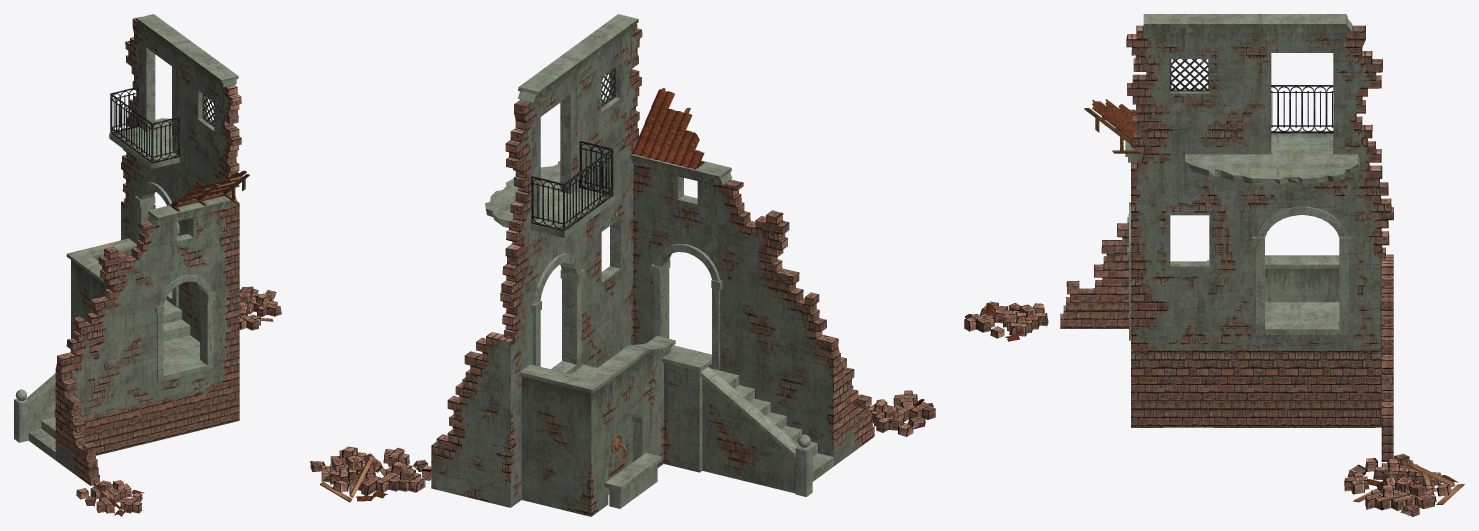
File: ruins-building.fbx
3 views of the same model, side by side, from view 1: azimuth 30°, elevation 25°; view 2: azimuth 150°, elevation 25°; view 3: azimuth 270°, elevation 25° (orthographic). The views are drawn at different scales.
Parts seen in each view (by area): view 1: Object_Ruins_Main_02.jpg, Object_Ruins_Main_01.jpg, Object_Ruins_Steps.jpg, Object_Balcony_Rail.jpg, Object_Rubble_02.jpg, Object_Rubble_01.jpg, Object_Roof_Tiles.jpg; view 2: Object_Ruins_Main_01.jpg, Object_Ruins_Steps.jpg, Object_Ruins_Main_02.jpg, Object_Rubble_01.jpg, Object_Balcony_Rail.jpg, Object_Roof_Tiles.jpg, Object_Rubble_02.jpg; view 3: Object_Ruins_Main_01.jpg, Object_Ruins_Steps.jpg, Object_Ruins_Main_02.jpg, Object_Rubble_01.jpg, Object_Balcony_Rail.jpg, Object_Rubble_02.jpg, Object_Roof_Tiles.jpg.
Boxes of the visible parts, x1,y1,x2,y2 form: Object_Ruins_Main_02.jpg: [55, 192, 233, 485]; Object_Ruins_Main_01.jpg: [109, 14, 241, 422]; Object_Ruins_Steps.jpg: [14, 238, 199, 459]; Object_Balcony_Rail.jpg: [110, 86, 214, 163]; Object_Rubble_02.jpg: [76, 480, 144, 516]; Object_Rubble_01.jpg: [239, 286, 281, 330]; Object_Roof_Tiles.jpg: [170, 170, 249, 211]; Object_Ruins_Main_01.jpg: [431, 14, 642, 507]; Object_Ruins_Steps.jpg: [519, 336, 833, 516]; Object_Ruins_Main_02.jpg: [631, 154, 874, 466]; Object_Rubble_01.jpg: [310, 446, 431, 502]; Object_Balcony_Rail.jpg: [531, 68, 615, 231]; Object_Roof_Tiles.jpg: [632, 88, 704, 169]; Object_Rubble_02.jpg: [870, 390, 935, 436]; Object_Ruins_Main_01.jpg: [1126, 14, 1393, 461]; Object_Ruins_Steps.jpg: [1207, 255, 1339, 321]; Object_Ruins_Main_02.jpg: [1060, 109, 1143, 340]; Object_Rubble_01.jpg: [1344, 453, 1464, 516]; Object_Balcony_Rail.jpg: [1170, 59, 1333, 133]; Object_Rubble_02.jpg: [964, 301, 1048, 341]; Object_Roof_Tiles.jpg: [1084, 99, 1141, 153].
Bounding box in the file's own units: 2.46 × 2.24 × 2.5.
